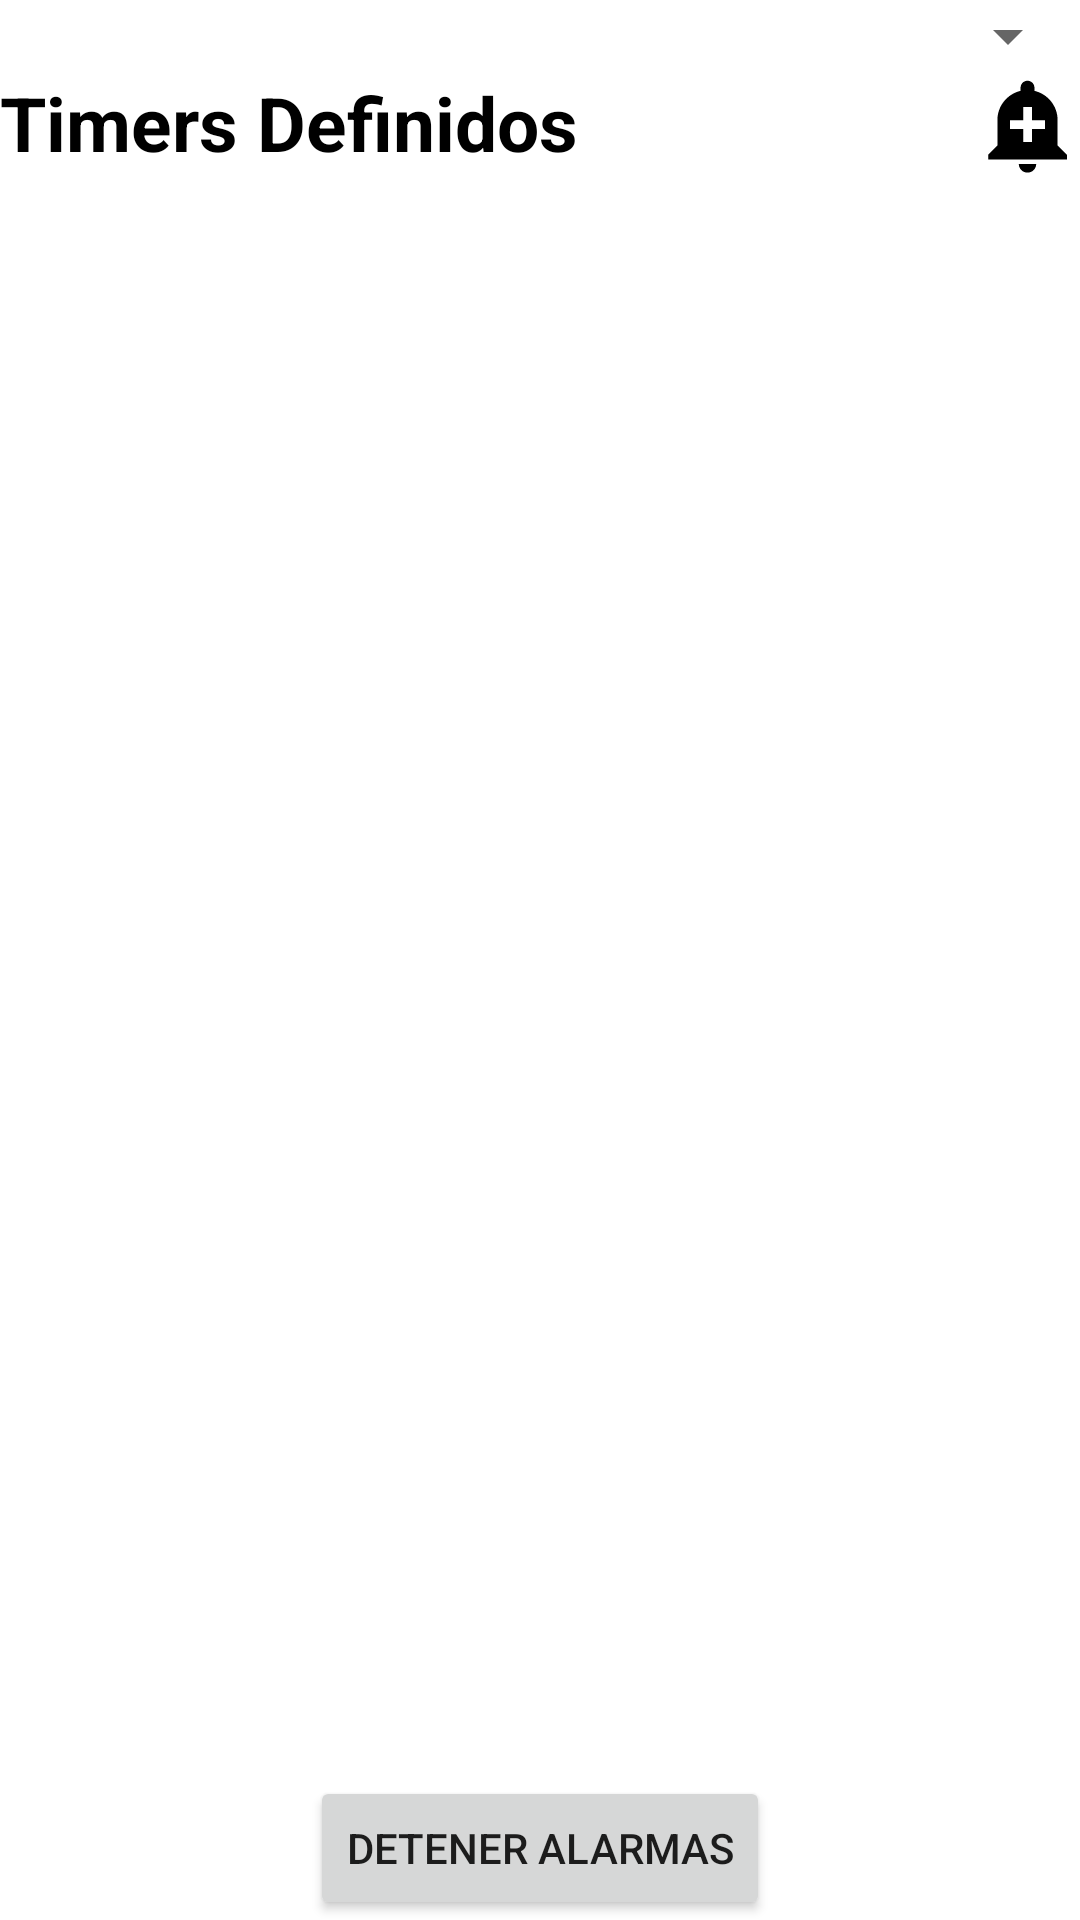

Screen size 1080px×1920px. Icon name, then its center in pixels as (x=x, y=y):
add alert: (x=1027, y=126)
